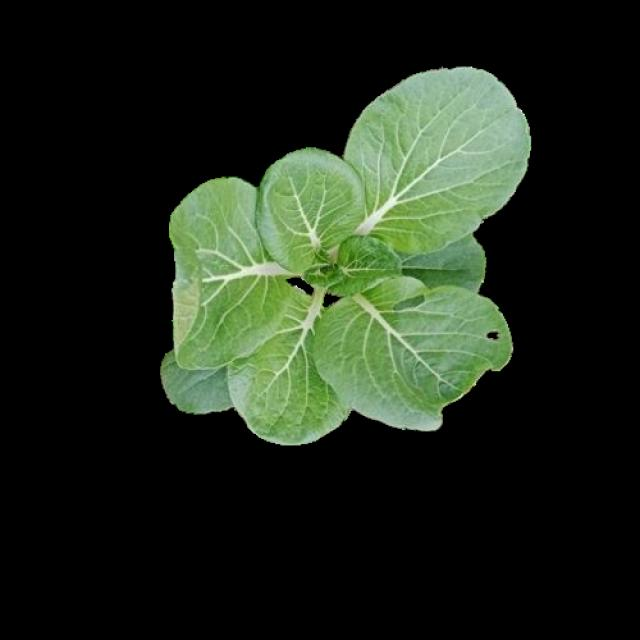not-mature: (162, 68, 528, 439)
unhealthy: (310, 272, 528, 440)
